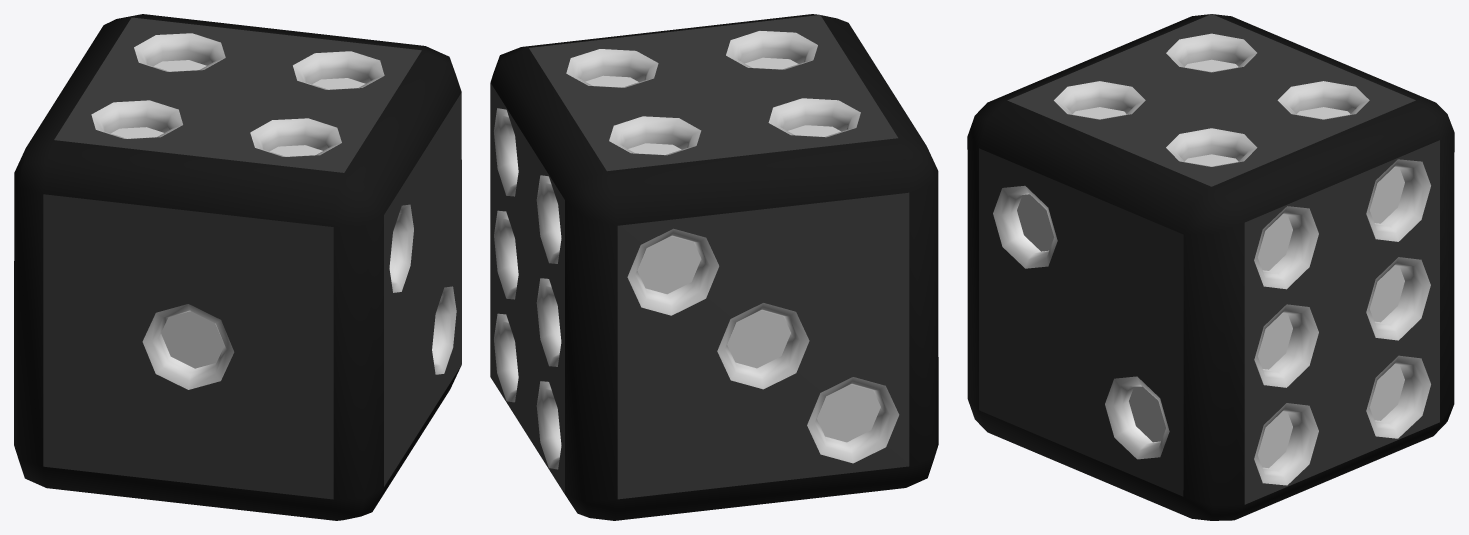
Rendered from Dice_V1_01.fbx.
The picture shows the model from 3 angles, left to right: view 1: azimuth 30°, elevation 25°; view 2: azimuth 150°, elevation 25°; view 3: azimuth 270°, elevation 25°; orthographic projection. The views are drawn at different scales.
Visible parts, largest first — view 1: Dice_V1_01; view 2: Dice_V1_01; view 3: Dice_V1_01.
Part boxes in pixels (box(x1,y1,x2,y2)): Dice_V1_01: box(14, 14, 461, 520); Dice_V1_01: box(490, 14, 938, 520); Dice_V1_01: box(967, 14, 1454, 520).
Size of the model in its own units: 49.83 by 37.76 by 49.85.
